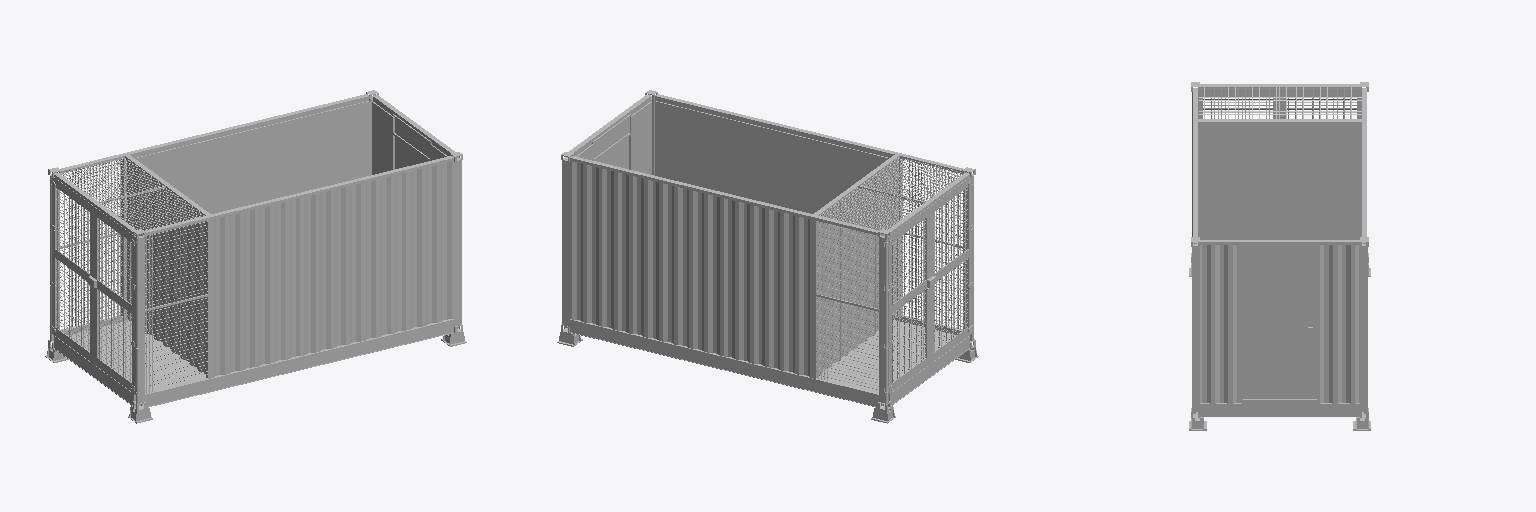
File: container.obj
3 renders of one model, left to right at view 1: azimuth 30°, elevation 25°; view 2: azimuth 150°, elevation 25°; view 3: azimuth 270°, elevation 25°, orthographic.
Visible parts, largest first — view 1: ____06, ___Layer1, ____07, ____05, Box19, Box22, Box27, Line01, Cylinder100, Cylinder102, Cylinder103, Cylinder101 (+5 smaller); view 2: ___Layer1, ____06, ____07, ____05, Box19, Box22, Box27, Line01, Cylinder101, Cylinder102, Cylinder103, Cylinder100 (+5 smaller); view 3: ____07, ____05, Box30, Box22, Box19, Box27, Box07, Cylinder108, Cylinder107, Line05.
Part boxes in pixels (bbox=[...]): ____06: bbox=[50, 161, 453, 376]; ___Layer1: bbox=[133, 99, 369, 213]; ____07: bbox=[52, 161, 205, 373]; ____05: bbox=[50, 95, 461, 403]; Box19: bbox=[54, 316, 453, 407]; Box22: bbox=[54, 94, 454, 235]; Box27: bbox=[52, 177, 135, 394]; Line01: bbox=[68, 320, 205, 392]; Cylinder100: bbox=[145, 221, 207, 393]; Cylinder102: bbox=[98, 219, 131, 381]; Cylinder103: bbox=[56, 188, 89, 350]; Cylinder101: bbox=[60, 159, 121, 326]; ___Layer1: bbox=[570, 161, 809, 376]; ____06: bbox=[655, 99, 892, 347]; ____07: bbox=[819, 159, 898, 374]; ____05: bbox=[562, 95, 973, 403]; Box19: bbox=[567, 315, 969, 407]; Box22: bbox=[569, 94, 969, 235]; Box27: bbox=[888, 177, 971, 393]; Line01: bbox=[819, 320, 955, 392]; Cylinder101: bbox=[816, 221, 878, 389]; Cylinder102: bbox=[934, 189, 967, 351]; Cylinder103: bbox=[892, 220, 925, 382]; Cylinder100: bbox=[902, 161, 962, 329]; ____07: bbox=[1198, 125, 1361, 239]; ____05: bbox=[1192, 92, 1367, 411]; Box30: bbox=[1242, 245, 1317, 403]; Box22: bbox=[1193, 84, 1366, 244]; Box19: bbox=[1193, 403, 1365, 416]; Box27: bbox=[1198, 90, 1361, 118]; Box07: bbox=[1198, 119, 1361, 124]; Cylinder108: bbox=[1199, 87, 1278, 118]; Cylinder107: bbox=[1280, 87, 1361, 118]; Line05: bbox=[1189, 263, 1370, 430].
Bounding box in the file's own units: 605 × 329 × 290.